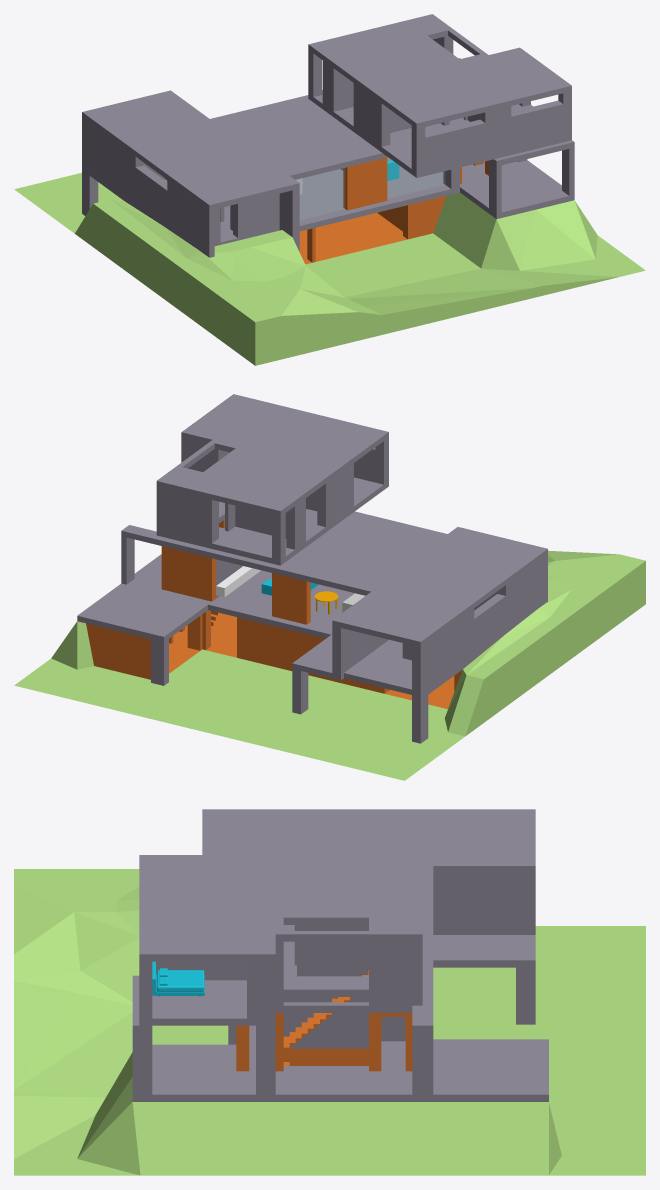
File: house.glb
3 renders of one model, top to bottom at view 1: azimuth 30°, elevation 25°; view 2: azimuth 150°, elevation 25°; view 3: azimuth 270°, elevation 25°, orthographic. The views are drawn at different scales.
Parts seen in each view (by area): view 1: Ground, First Floor, Ground Floor, Roof, Basement; view 2: Ground, Ground Floor, First Floor, Basement, Roof, S TV Cabinet; view 3: Ground, Ground Floor, First Floor, Roof, Basement, S Bed Bedroom 1, S Stairs.
Part boxes in pixels (x1=…): Ground: x1=14, y1=173, x2=645, y2=365; First Floor: x1=96, y1=14, x2=571, y2=189; Ground Floor: x1=82, y1=58, x2=534, y2=257; Roof: x1=322, y1=20, x2=557, y2=117; Basement: x1=82, y1=140, x2=574, y2=264; Ground: x1=14, y1=550, x2=645, y2=780; Ground Floor: x1=77, y1=511, x2=547, y2=699; First Floor: x1=156, y1=394, x2=520, y2=635; Basement: x1=86, y1=610, x2=462, y2=743; Roof: x1=170, y1=400, x2=374, y2=505; S TV Cabinet: x1=216, y1=566, x2=260, y2=597; Ground: x1=14, y1=869, x2=645, y2=1175; Ground Floor: x1=202, y1=809, x2=548, y2=1101; First Floor: x1=139, y1=815, x2=522, y2=1025; Roof: x1=152, y1=860, x2=409, y2=948; Basement: x1=132, y1=967, x2=535, y2=1101; S Bed Bedroom 1: x1=152, y1=961, x2=204, y2=996; S Stairs: x1=283, y1=970, x2=368, y2=1051.
Bounding box in the file's own units: 22.5 × 8.6 × 24.07.
